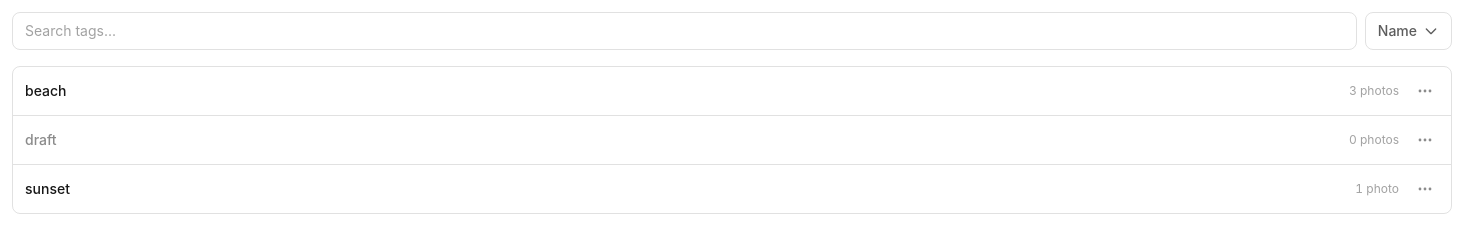
TagList › deletes a tag from its menu after confirmation
This screenshot has width=1464, height=231.
Check: the link "beach" is shown, box [25, 82, 66, 99]
Click the button named "Actions for beach": (1425, 91) [1411, 77, 1439, 105]
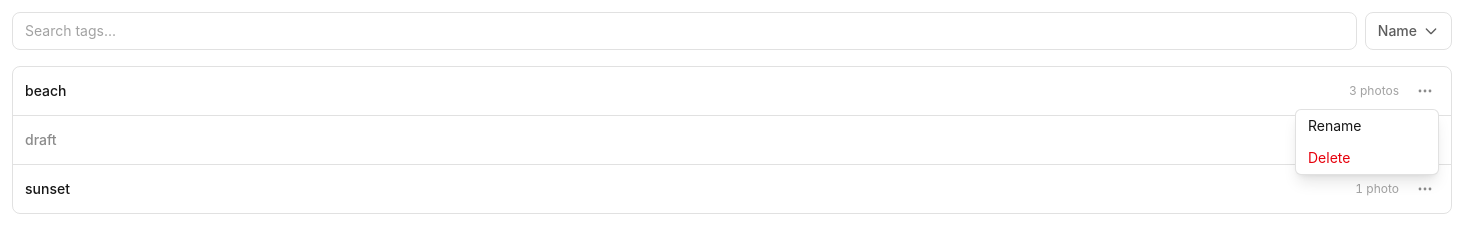
Click the menu item "Delete": (1367, 158) [1296, 142, 1438, 174]
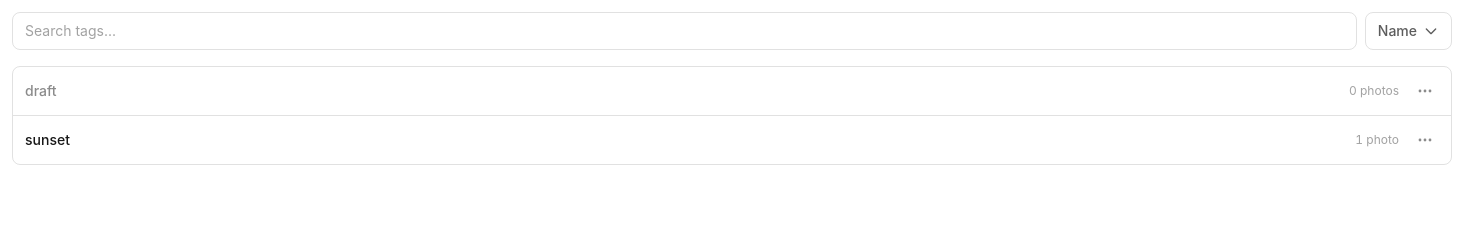
Check: the link "beach" is gone
